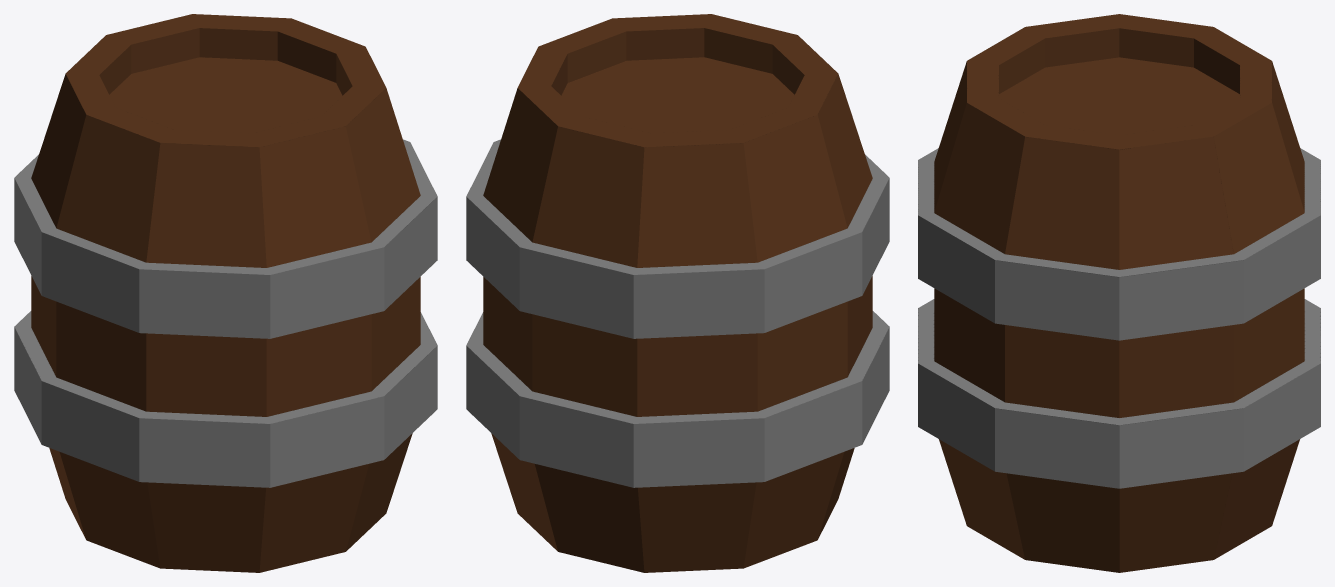
The model's file is Barile.fbx.
The picture shows the model from 3 angles, left to right: view 1: azimuth 30°, elevation 25°; view 2: azimuth 150°, elevation 25°; view 3: azimuth 270°, elevation 25°; orthographic projection.
Visible parts, largest first — view 1: pCylinder3; view 2: pCylinder3; view 3: pCylinder3.
Boxes of the visible parts, x1=… form: pCylinder3: x1=14, y1=14, x2=437, y2=572; pCylinder3: x1=466, y1=14, x2=889, y2=572; pCylinder3: x1=918, y1=14, x2=1320, y2=572.
Bounding box in the file's own units: 0.6563 × 0.7241 × 0.6242.
1 material, 1 textured.
